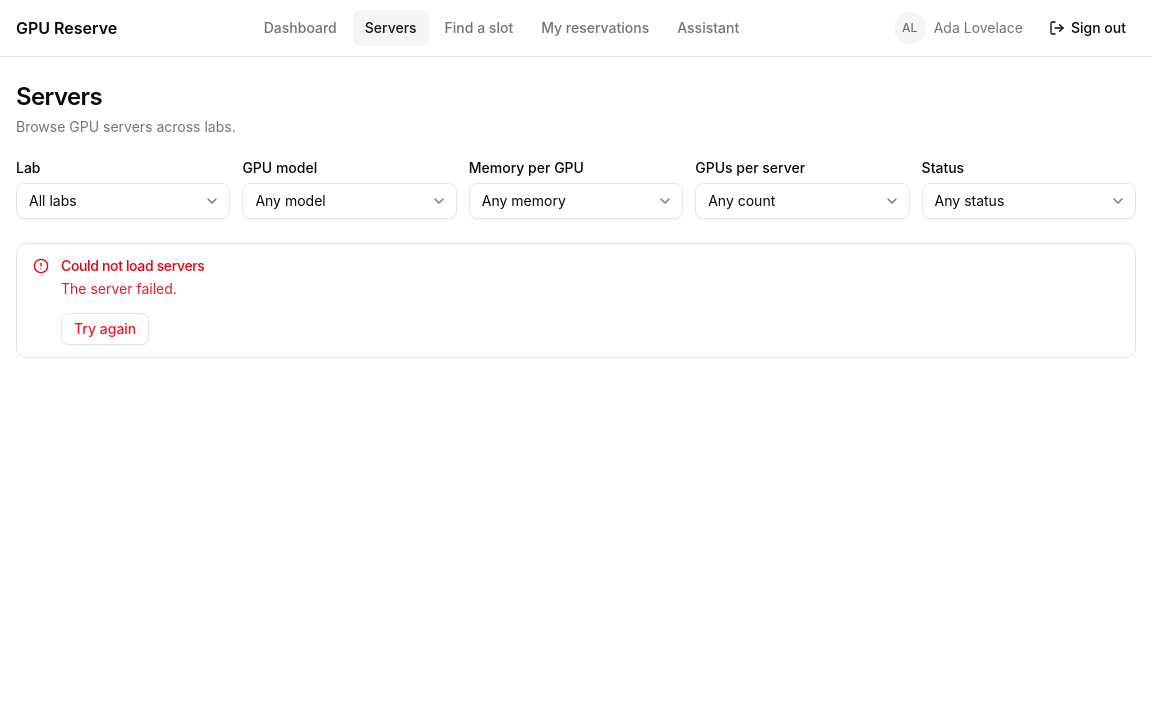
servers page › shows an error with a retry
This screenshot has width=1152, height=720.
Expected: the text "Could not load servers" is shown, [61,257,204,274]
Expected: the text "The server failed." is shown, [61,278,177,301]
Click the button "Try again": {"x": 105, "y": 329} [61,313,149,345]
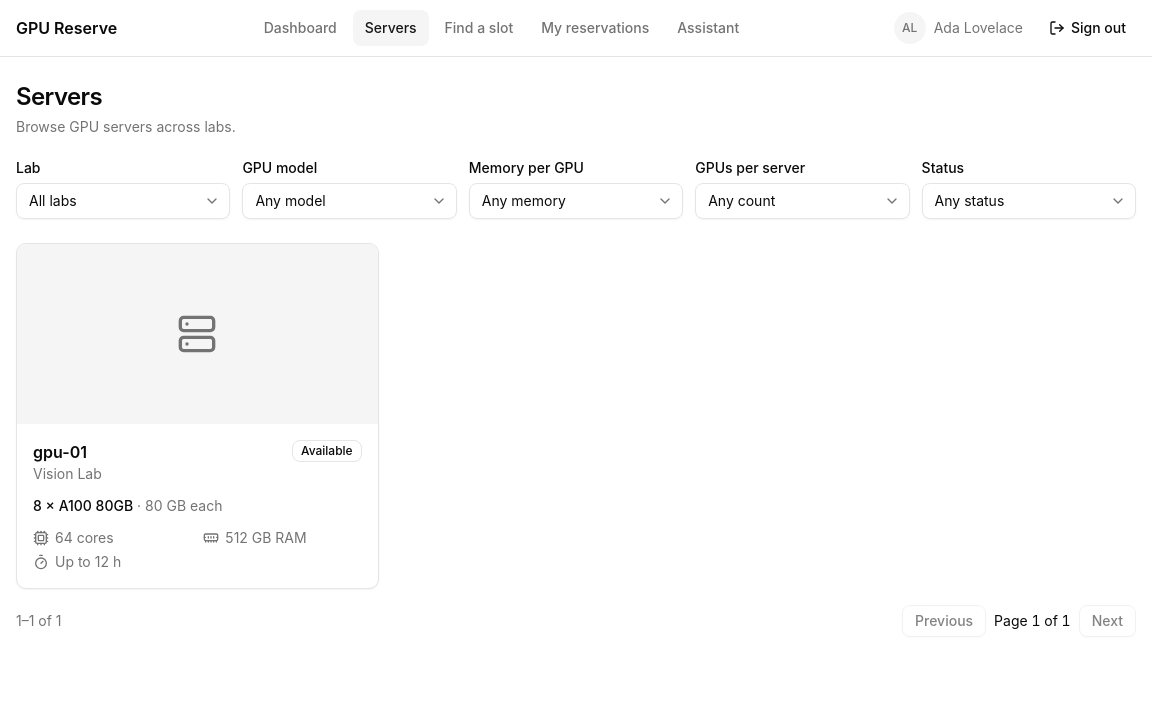
Expected: the heading "gpu-01" is shown, [33,442,87,462]
